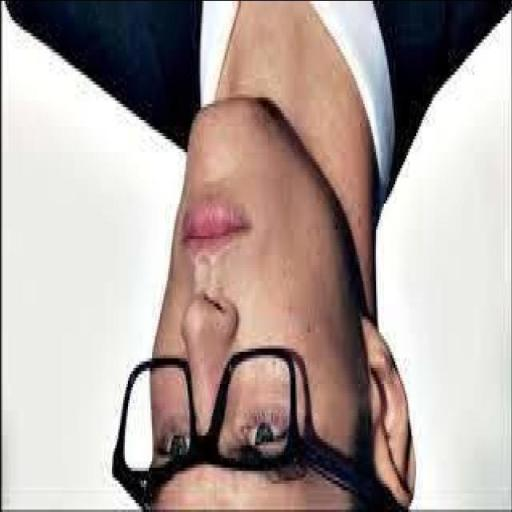glasses: (108, 330, 304, 494)
